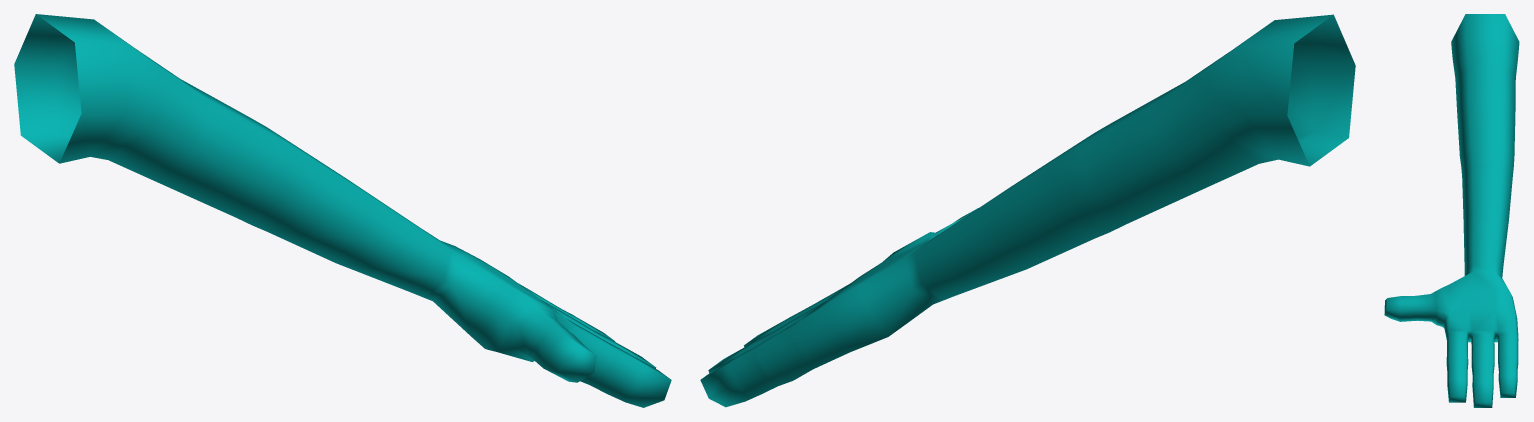
File: Brazo_izquierdoPerry.obj
The picture shows the model from 3 angles, left to right: view 1: azimuth 30°, elevation 25°; view 2: azimuth 150°, elevation 25°; view 3: azimuth 270°, elevation 25°; orthographic projection. The views are drawn at different scales.
Parts seen in each view (by area): view 1: BrazoIzq; view 2: BrazoIzq; view 3: BrazoIzq.
Part boxes in pixels (x1,y1,x2,y2): BrazoIzq: [14, 14, 671, 407]; BrazoIzq: [700, 14, 1355, 407]; BrazoIzq: [1384, 14, 1519, 407].
Size of the model in its own units: 1.04 by 0.8195 by 0.3959.
